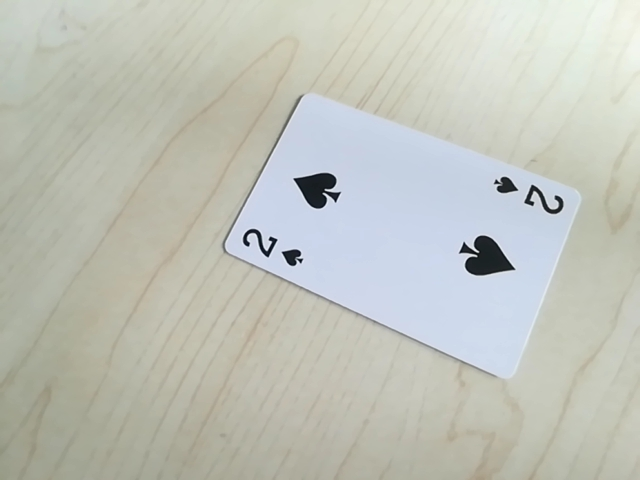ht 2: (229, 224, 312, 271), (490, 172, 571, 219)
